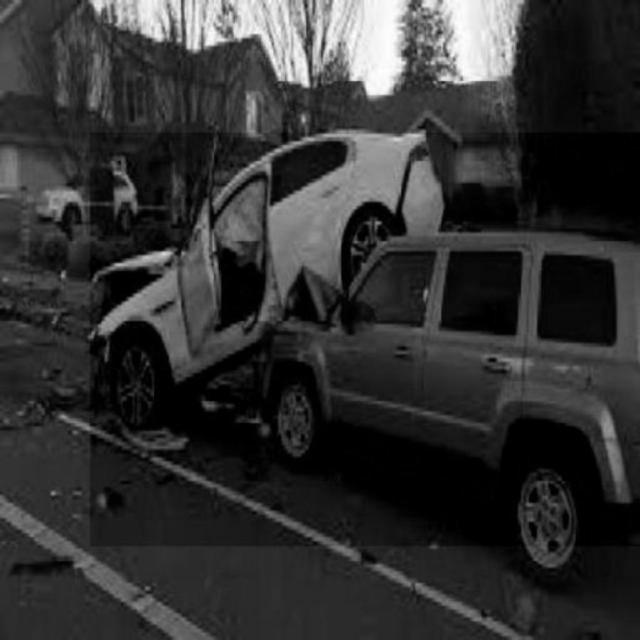accident: (90, 133, 640, 546)
